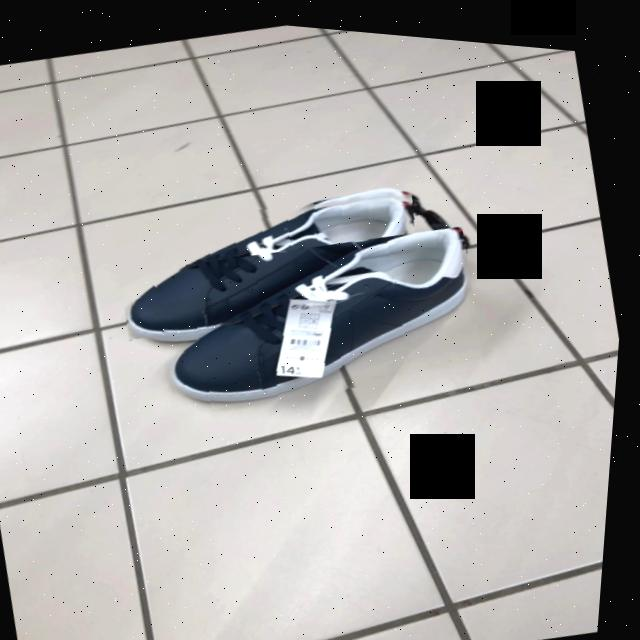shoe: (178, 217, 470, 400), (130, 184, 415, 333)
